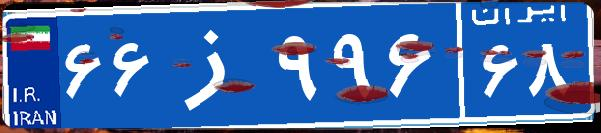6: (385, 28, 445, 110), (57, 26, 110, 107), (475, 38, 525, 113), (110, 28, 158, 105)
8: (525, 38, 570, 115)
9: (273, 28, 330, 110), (330, 28, 385, 110)
ز: (158, 15, 273, 115)
